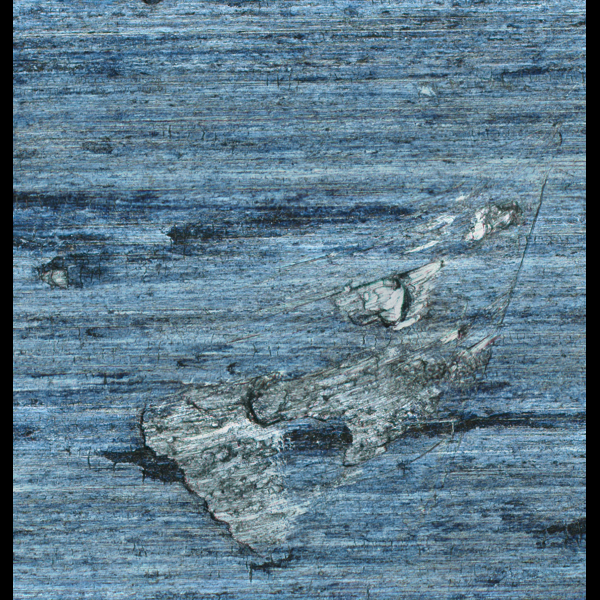d: (99, 185, 525, 577), (33, 249, 97, 292)
